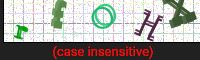H: (130, 6, 166, 42)
O: (88, 2, 122, 31)
X: (160, 1, 198, 31)
f: (47, 1, 72, 34)
r: (10, 20, 33, 44)
